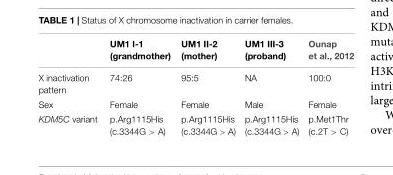table: (37, 37, 353, 135)
table column: (102, 37, 175, 135), (37, 37, 102, 135), (175, 37, 239, 135), (239, 37, 303, 135), (303, 37, 353, 135)
table column header: (37, 37, 353, 65)
table row: (37, 65, 353, 96), (37, 37, 353, 65), (37, 110, 353, 135), (37, 96, 353, 110)
